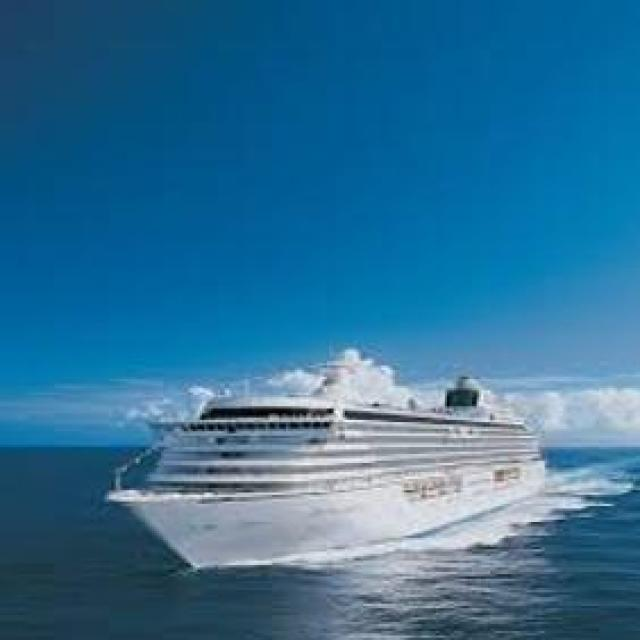passenger ship: (108, 353, 558, 567)
